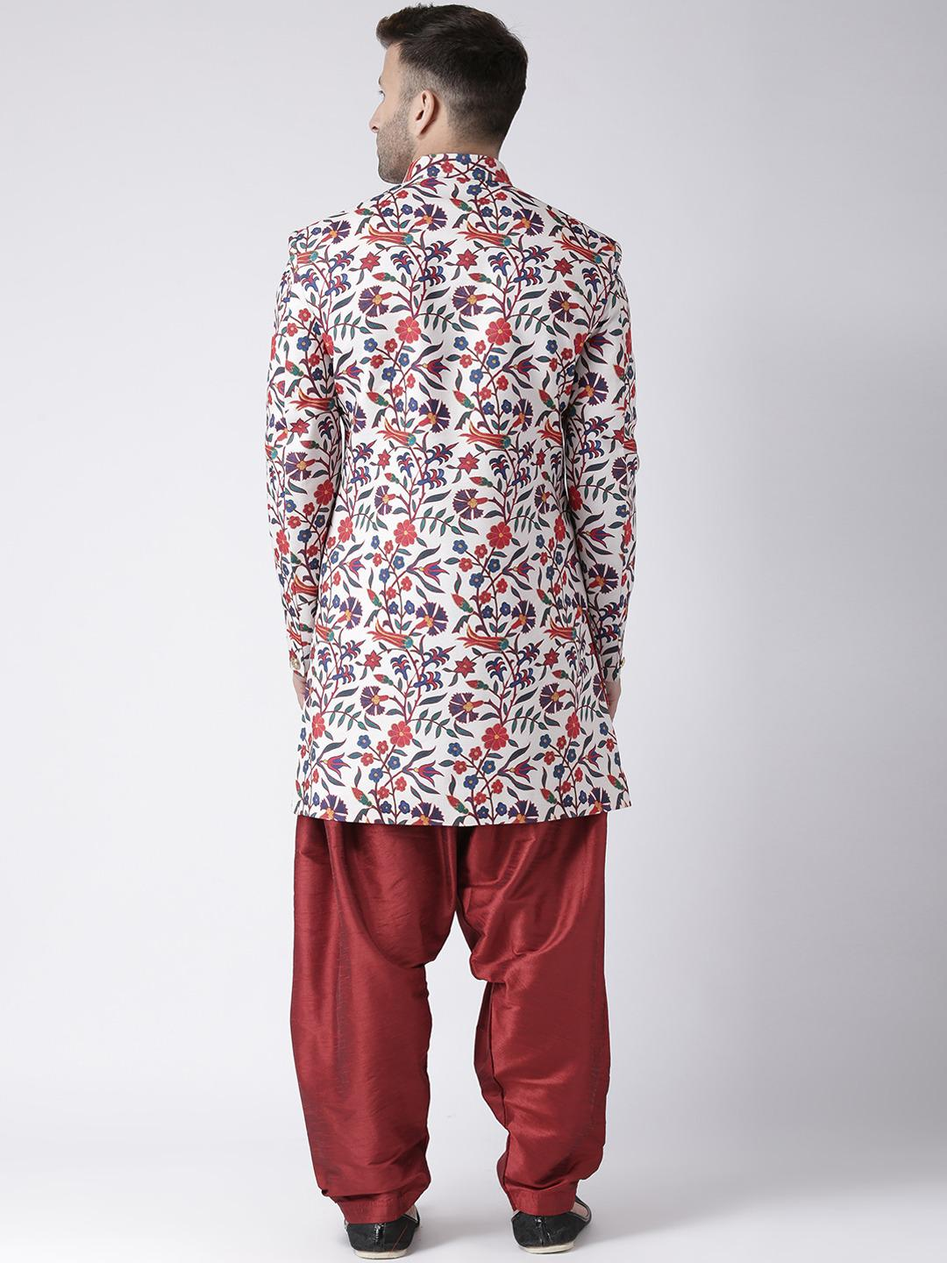Design Sherwani: (262, 153, 641, 830)
